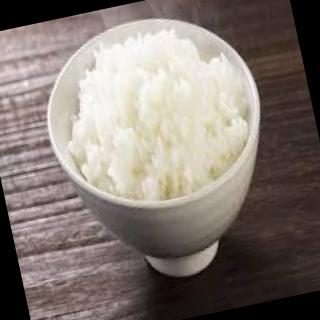Nasi: (44, 11, 264, 216)
